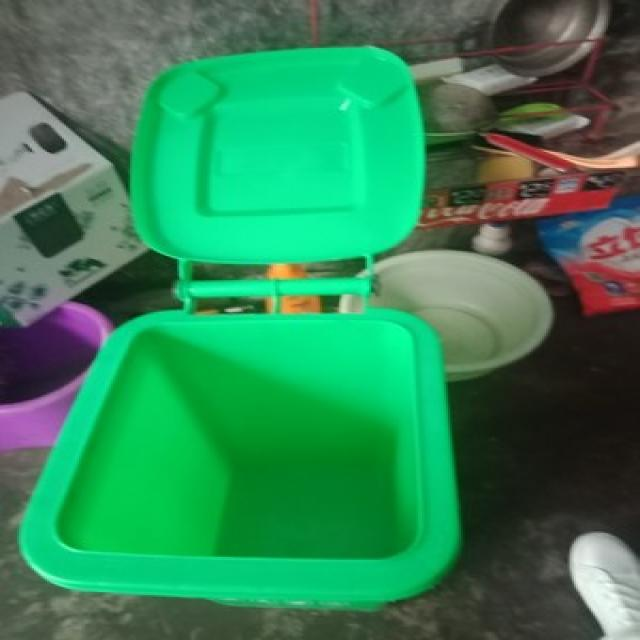ash bin: (19, 43, 467, 605)
